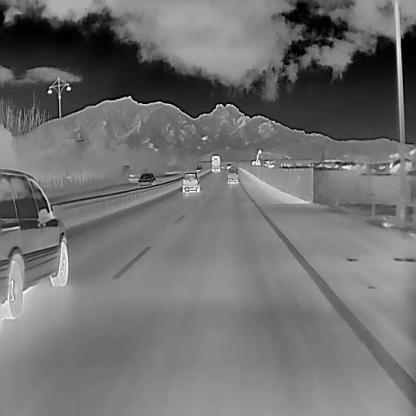car: (0, 168, 68, 318), (182, 170, 199, 192), (137, 172, 155, 186), (227, 166, 238, 184), (195, 164, 201, 171), (225, 162, 231, 169)
truck: (210, 154, 220, 172)
